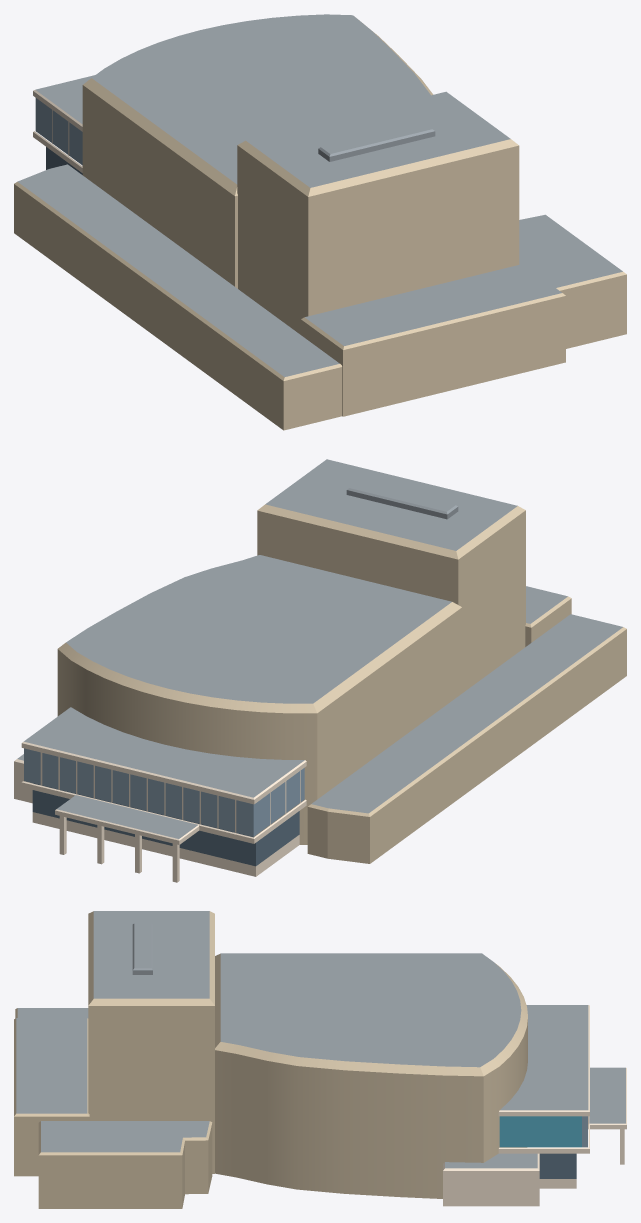
Rendered from ovens-auditorium.glb.
3 renders of one model, top to bottom at view 1: azimuth 30°, elevation 25°; view 2: azimuth 150°, elevation 25°; view 3: azimuth 270°, elevation 25°, orthographic. The views are drawn at different scales.
Visible parts, largest first — view 1: Ovens Auditorium; view 2: Ovens Auditorium; view 3: Ovens Auditorium.
Part boxes in pixels (x1,y1,x2,y2): Ovens Auditorium: (14, 14, 626, 430); Ovens Auditorium: (14, 459, 626, 882); Ovens Auditorium: (14, 911, 626, 1208).
Bounding box in the file's own units: 54 × 29 × 89.9.
